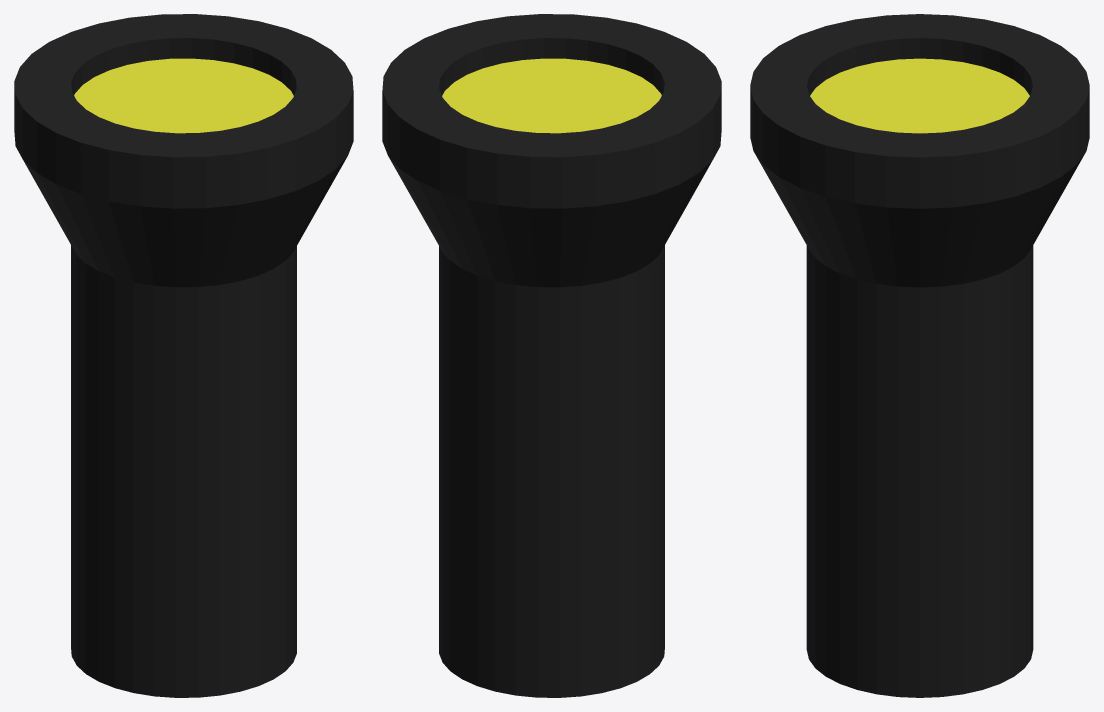
Rendered from linterna.fbx.
3 views of the same model, side by side, from view 1: azimuth 30°, elevation 25°; view 2: azimuth 150°, elevation 25°; view 3: azimuth 270°, elevation 25° (orthographic).
Visible parts, largest first — view 1: Circle; view 2: Circle; view 3: Circle.
Part boxes in pixels (x1,y1,x2,y2): Circle: (14, 14, 353, 697); Circle: (382, 14, 721, 697); Circle: (750, 14, 1089, 697).
Bounding box in the file's own units: 300 × 550 × 300.
